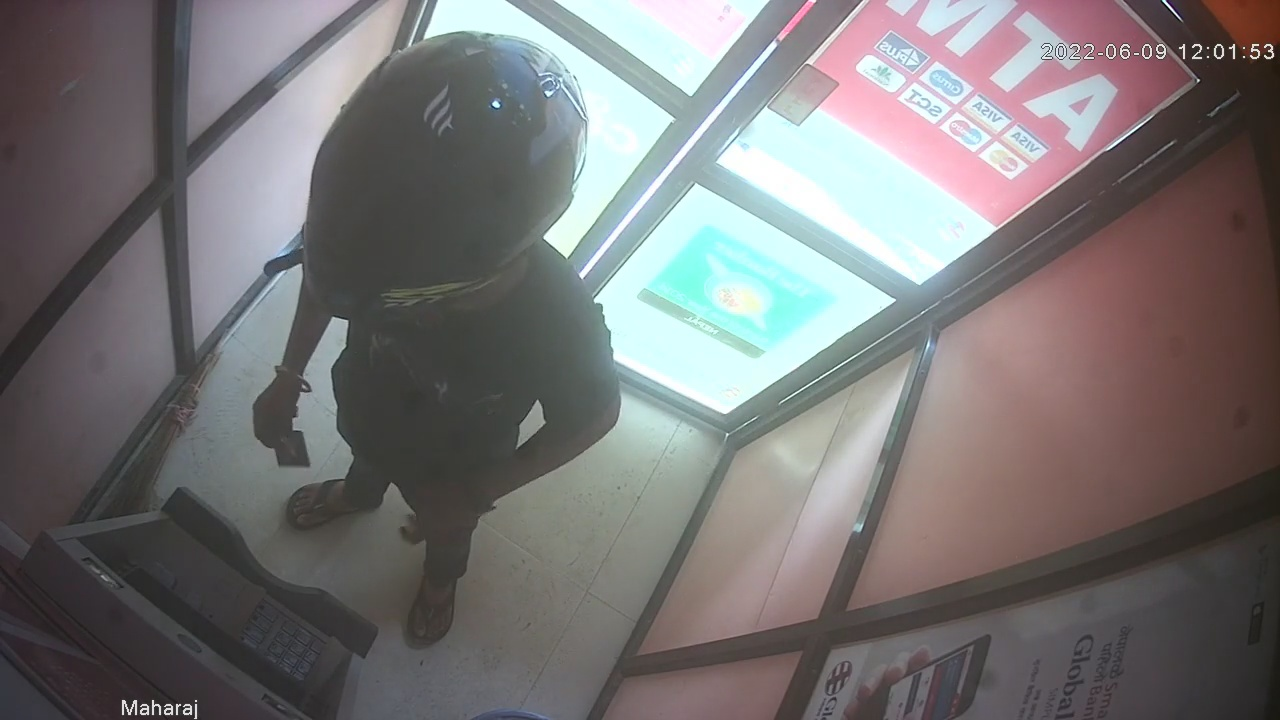helmet: (297, 31, 589, 325)
person: (251, 29, 622, 650)
